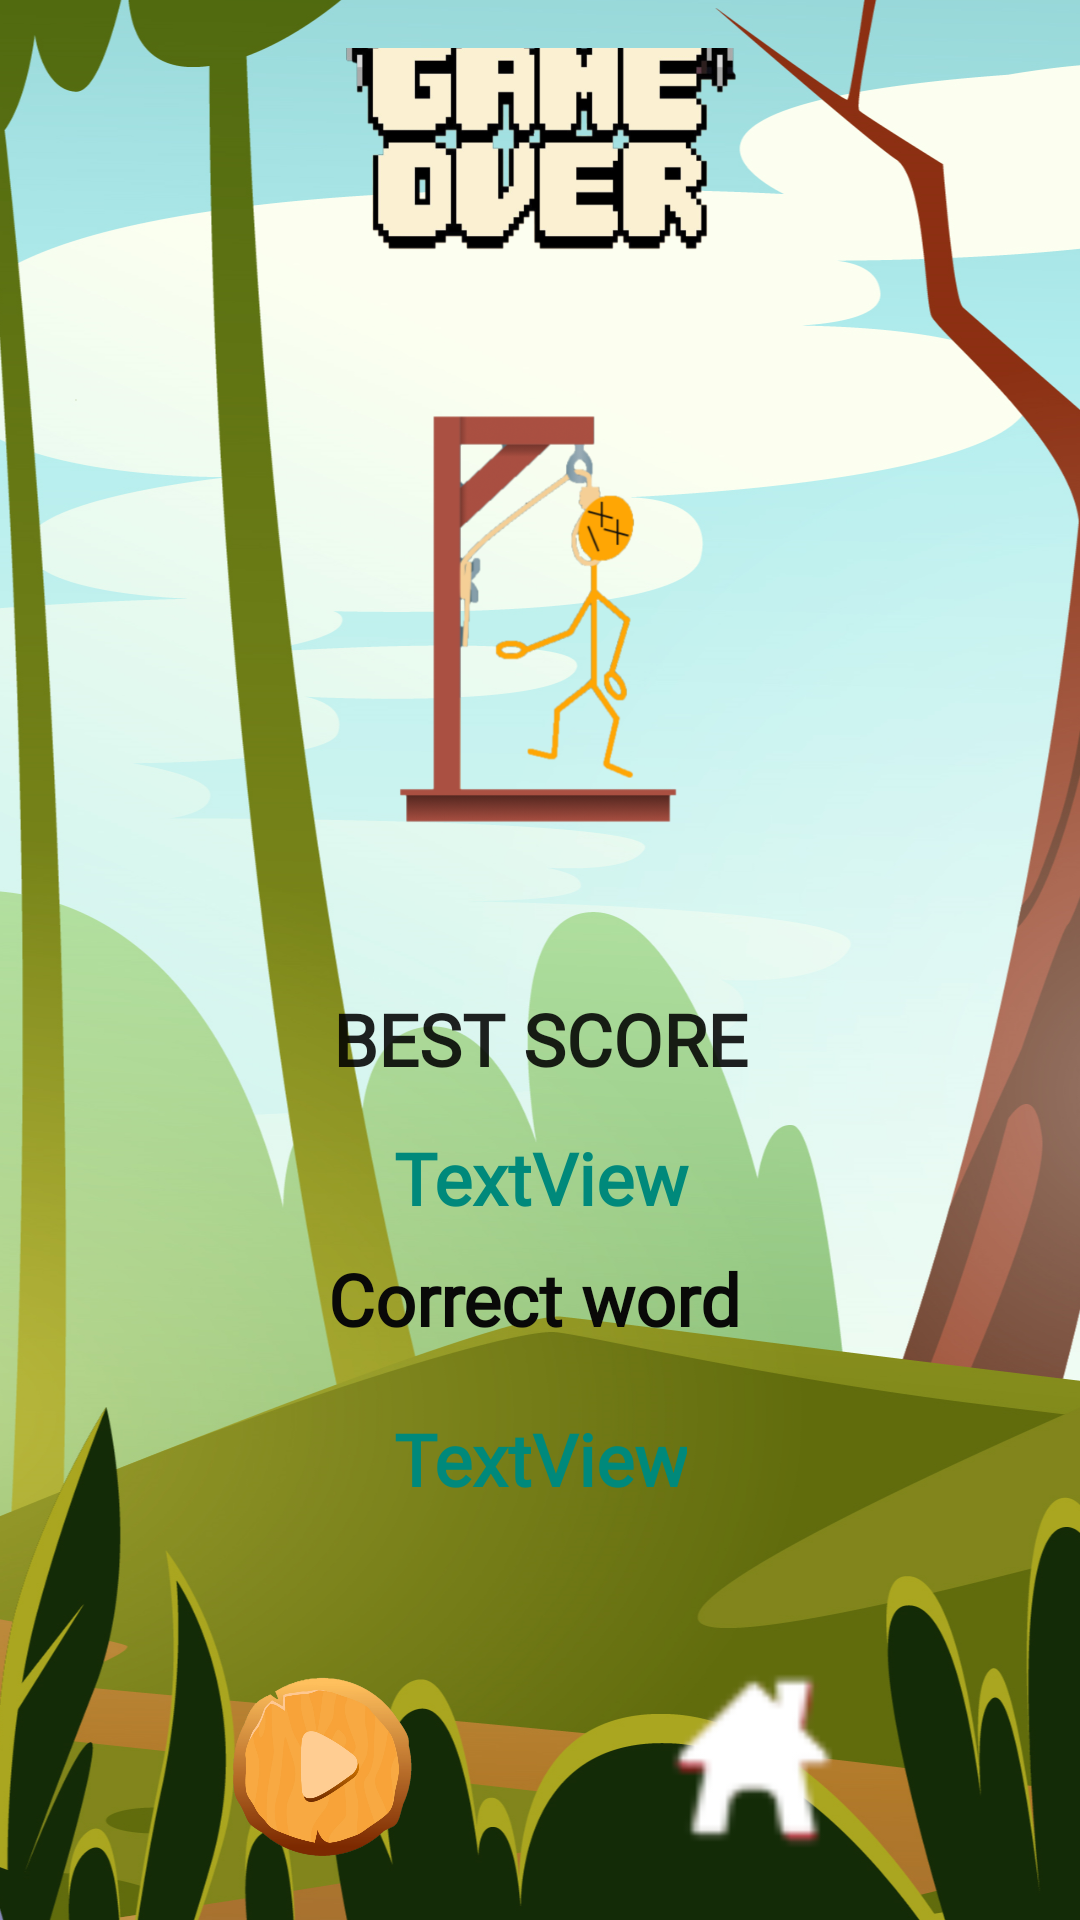

Where to tap for icons on this 1080px x 1920px app screen, as [x,y]:
home: [755,1767]
play: [325,1767]
